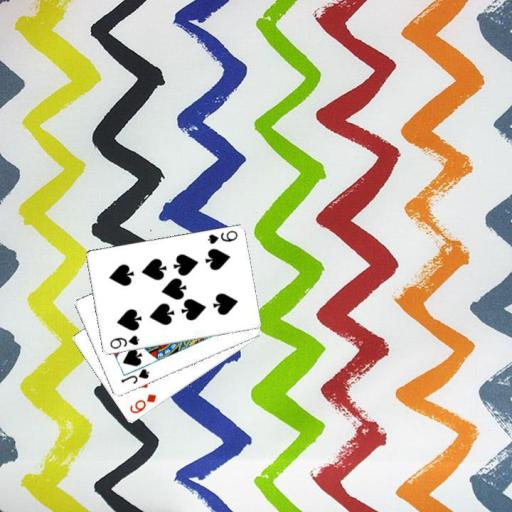6D: (126, 391, 158, 415)
9S: (107, 333, 141, 351), (205, 228, 239, 246)
JS: (117, 366, 151, 386)
